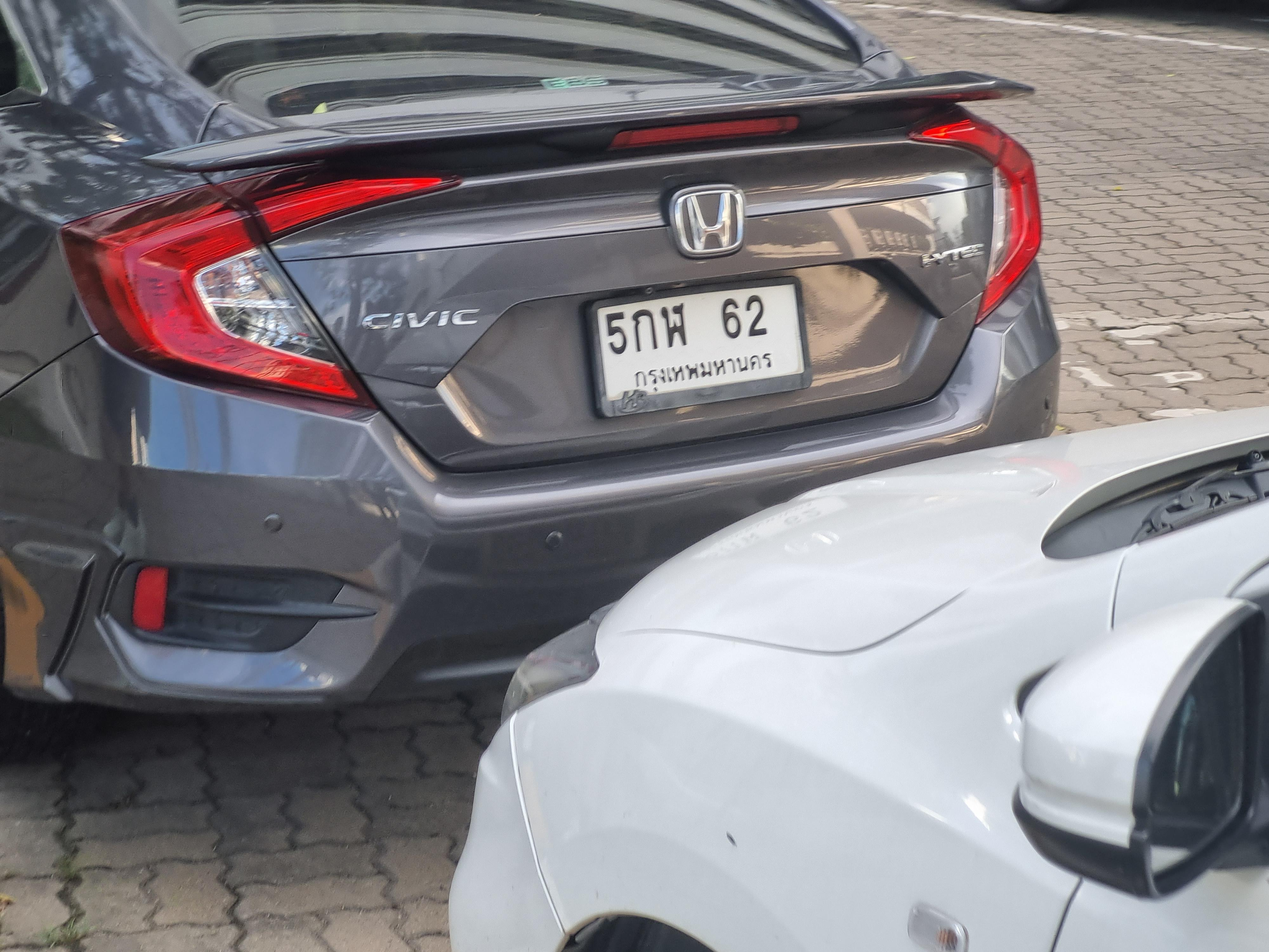license-plate: (587, 278, 806, 419)
